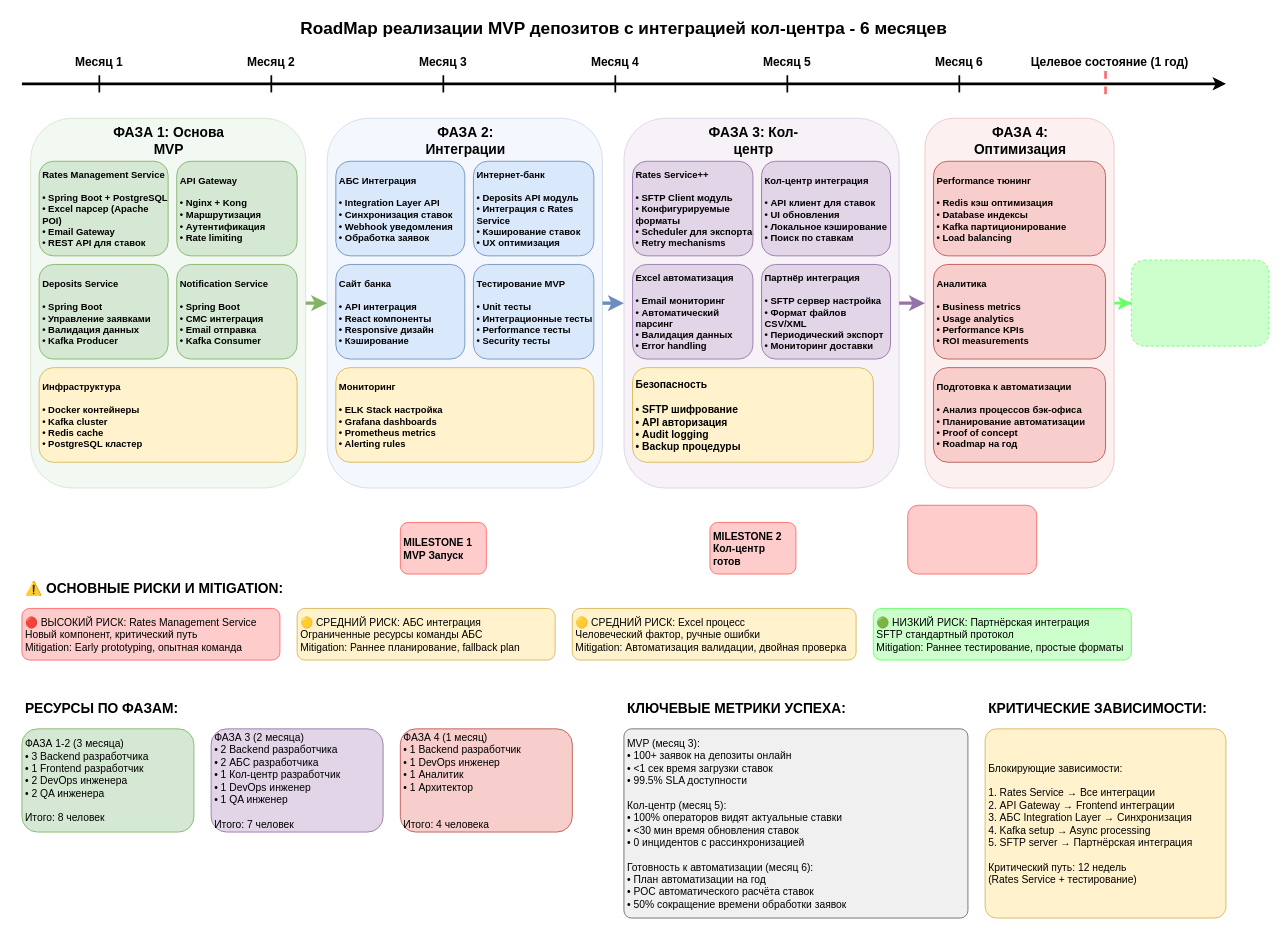
Some shapes in this 1284 by 933 pixel diagram are drawn without their labels. The centre of each missing label's shape, as x and y in pixels:
MILESTONE 3 Готовность к полной автоматизации: (972,539)
ЦЕЛЬ НА ГОД Полная автоматизация депозитов без участия бэк-офиса: (1199,302)
